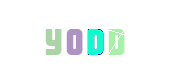D: (44, 0, 124, 80), (55, 0, 135, 80)
O: (44, 0, 124, 80)
Y: (37, 0, 117, 80)
